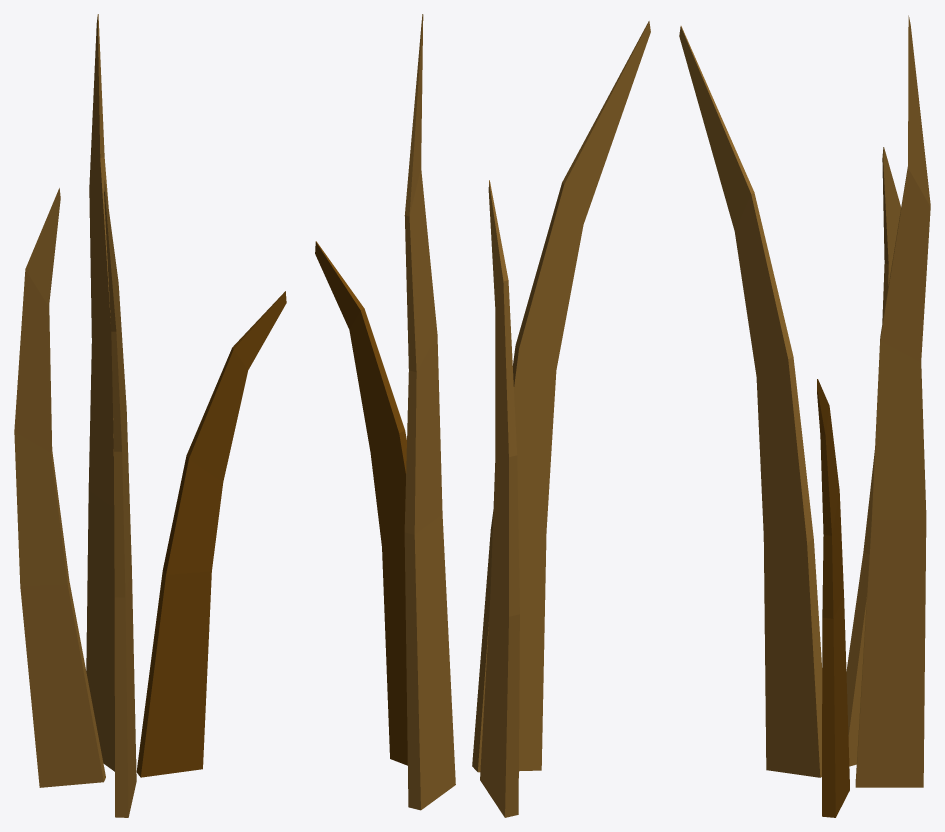
The model's file is PrairieTallGrass(1).fbx.
The picture shows the model from 3 angles, left to right: view 1: azimuth 30°, elevation 25°; view 2: azimuth 150°, elevation 25°; view 3: azimuth 270°, elevation 25°; orthographic projection. The views are drawn at different scales.
Visible parts, largest first — view 1: PrairieTallGrass(1); view 2: PrairieTallGrass(1); view 3: PrairieTallGrass(1).
Part boxes in pixels (x1,y1,x2,y2): PrairieTallGrass(1): [14, 14, 286, 817]; PrairieTallGrass(1): [315, 14, 650, 817]; PrairieTallGrass(1): [679, 15, 930, 817].
Bounding box in the file's own units: 0.9745 × 2.79 × 0.8196.
